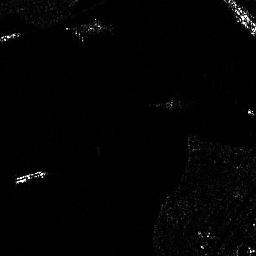ship: (225, 1, 255, 36), (14, 169, 46, 184), (1, 31, 19, 42)
